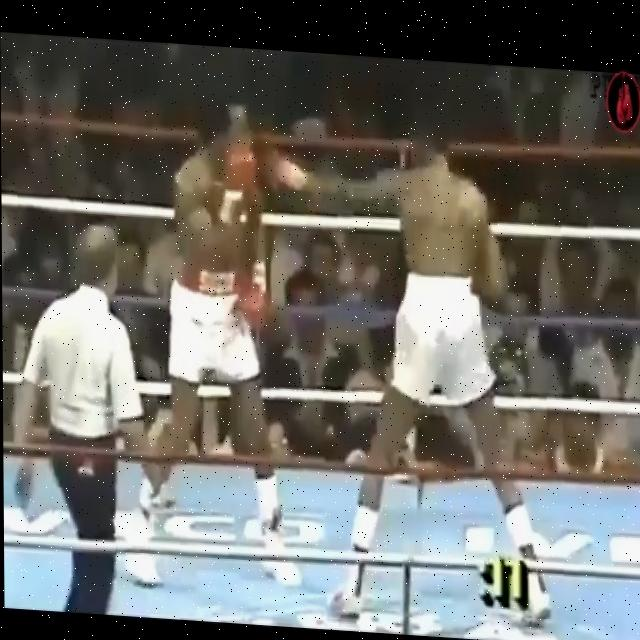Jab: (246, 122, 428, 299)
